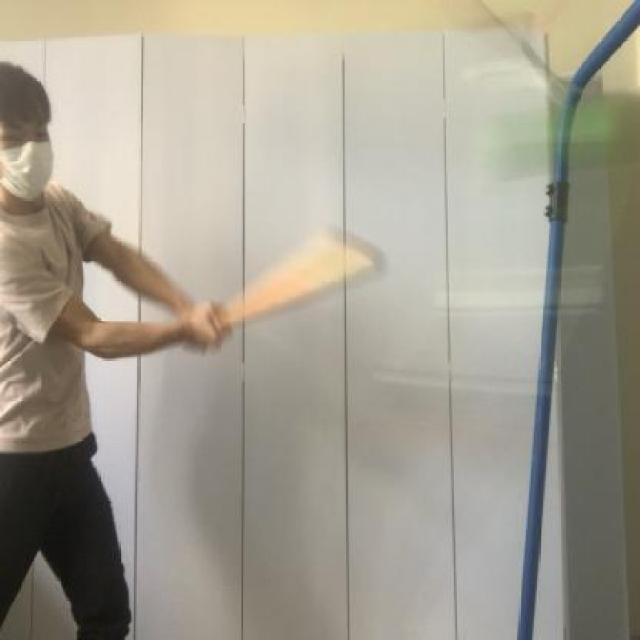baseball: (479, 93, 624, 187)
